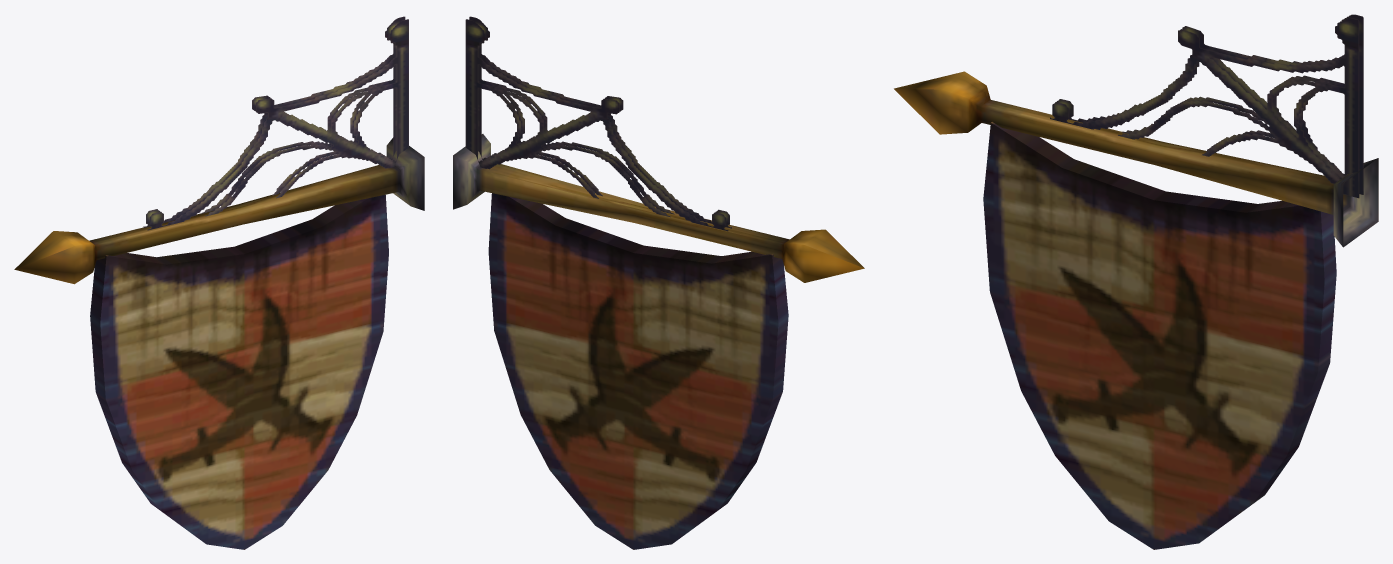
Rendered from INST_LT_SWORD_SIGN_01.fbx.
3 views of the same model, side by side, from view 1: azimuth 30°, elevation 25°; view 2: azimuth 150°, elevation 25°; view 3: azimuth 330°, elevation 25° (orthographic). The views are drawn at different scales.
Parts seen in each view (by area): view 1: INST_LT_SWORD_SIGN_01; view 2: INST_LT_SWORD_SIGN_01; view 3: INST_LT_SWORD_SIGN_01.
Boxes of the visible parts, <box> form: INST_LT_SWORD_SIGN_01: <box>14,16,424,549</box>; INST_LT_SWORD_SIGN_01: <box>453,16,864,549</box>; INST_LT_SWORD_SIGN_01: <box>894,14,1378,549</box>.
Size of the model in its own units: 12839 by 15158 by 1677.
2 materials, 2 textured.
